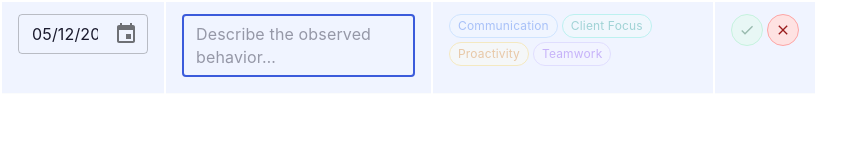
Scenario: InlineLogRow › save button enabled when description filled and at least one chip selected
Type "Handled client well" into the text box with placeholder "Describe the observed behavior…" at coordinates (298, 46), box [196, 22, 401, 68]
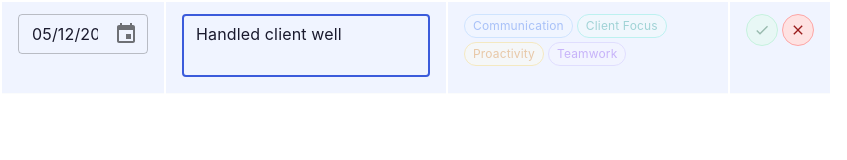
Click the button "Communication" at coordinates (518, 26), box [464, 14, 573, 38]
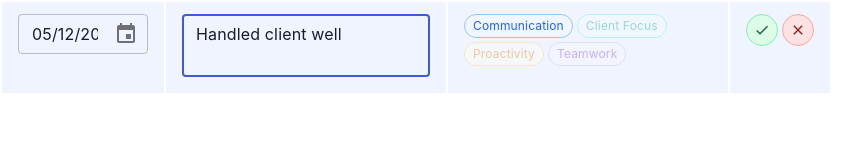
expect the button named "save log entry" is enabled: met, box [746, 14, 778, 46]
